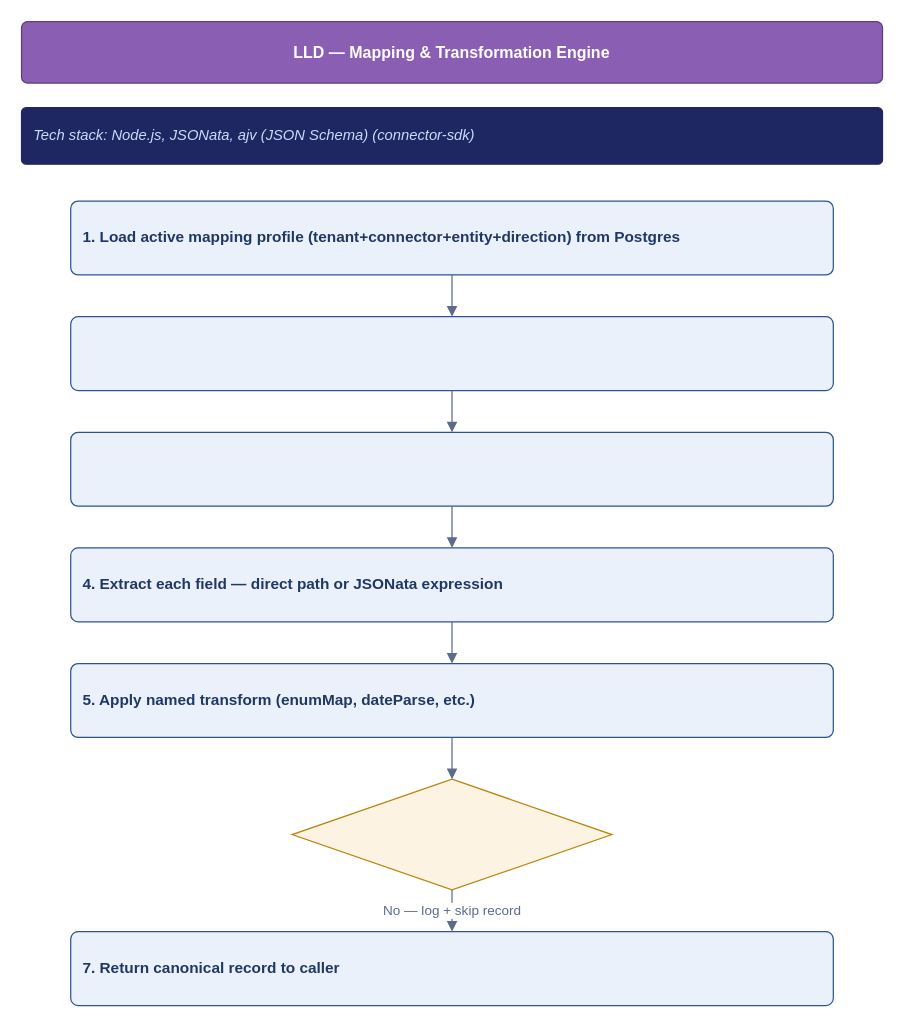
This 904x1027 diagram has some shape labels left out. Here are the shapes that lost their labels. From the top down, the box of each, then its label:
(69, 315, 833, 391): 2. Load canonical schema (inbound only)
(69, 431, 833, 506): 3. Compile JSONata expressions (cached in-process)
(291, 778, 612, 890): Valid against canonical schema?
